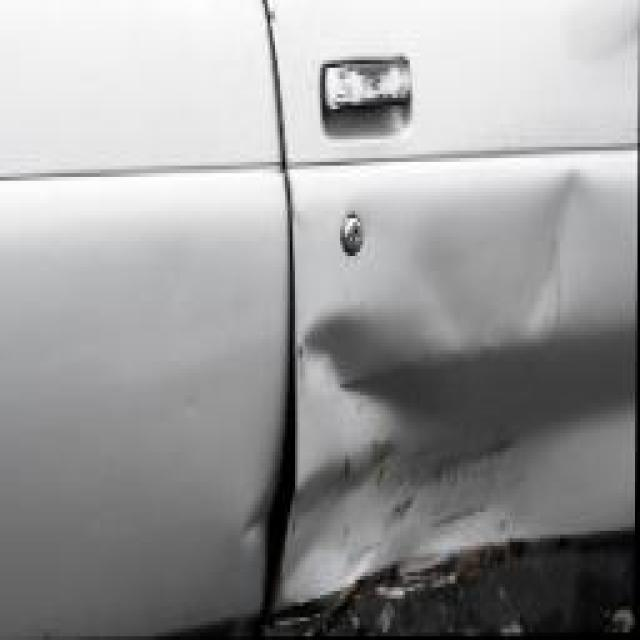Door: (268, 0, 640, 628)
